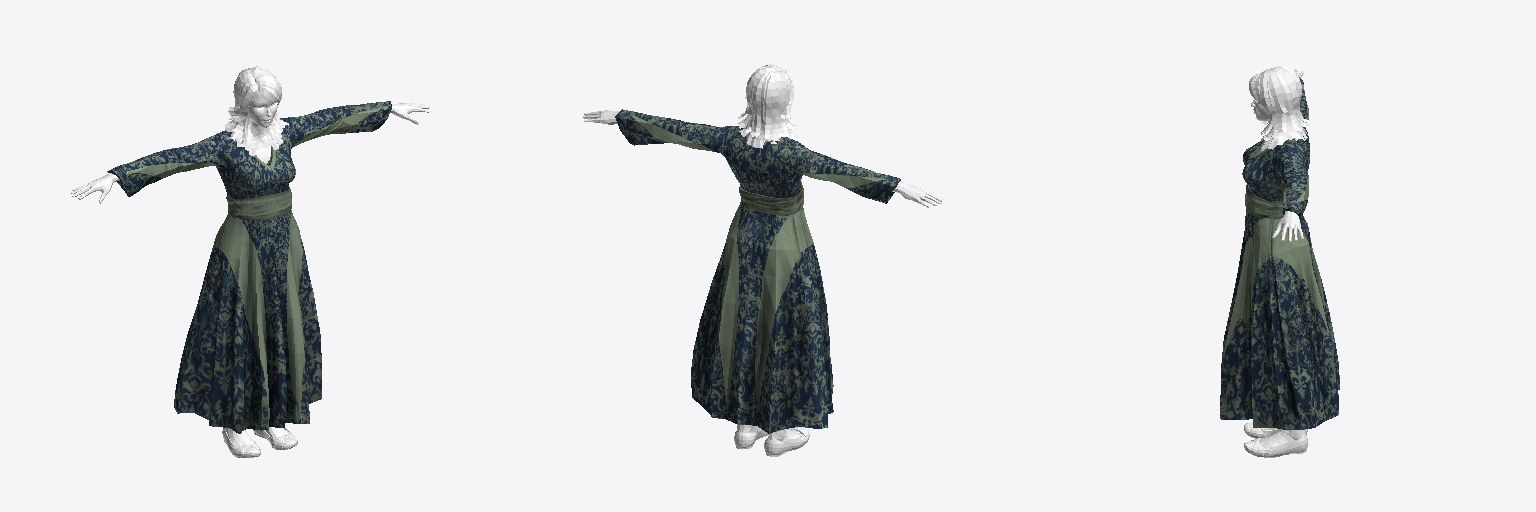
3 views of the same model, side by side, from view 1: azimuth 30°, elevation 25°; view 2: azimuth 150°, elevation 25°; view 3: azimuth 270°, elevation 25° (orthographic).
Visible parts, largest first — view 1: Tops, Hair, Body, Shoes; view 2: Tops, Hair, Body, Shoes; view 3: Tops, Hair, Body, Shoes.
Boxes of the visible parts, x1,y1,x2,y2 form: Tops: [107, 101, 391, 433]; Hair: [225, 66, 288, 155]; Body: [71, 93, 430, 446]; Shoes: [222, 427, 297, 457]; Tops: [615, 109, 900, 433]; Hair: [738, 64, 796, 148]; Body: [583, 110, 942, 440]; Shoes: [734, 427, 809, 456]; Tops: [1220, 77, 1339, 429]; Hair: [1249, 66, 1309, 150]; Body: [1251, 68, 1304, 447]; Shoes: [1244, 422, 1307, 457].
Size of the model in its own units: 179 by 180 by 52.26.
4 materials, 1 textured.